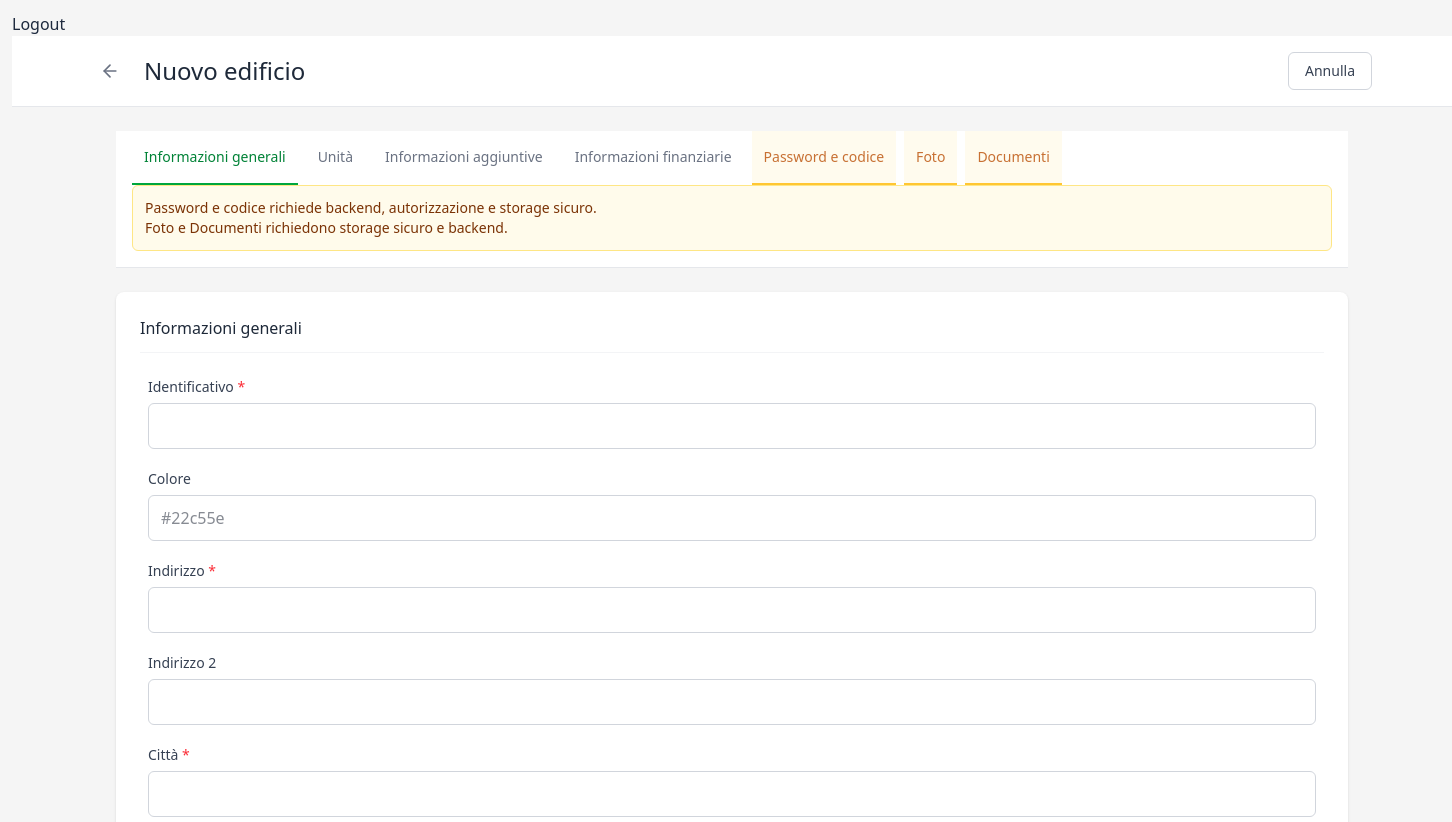
it: Nuovo edificio draft, guard e recovery › non autosalva digitando o cambiando tab e salva manualmente payload incompleto
This screenshot has width=1452, height=822.
Type "Solo identificativo" into the field with id "identifier".
click(732, 426); type("Solo identificativo")  # box [148, 403, 1316, 449]
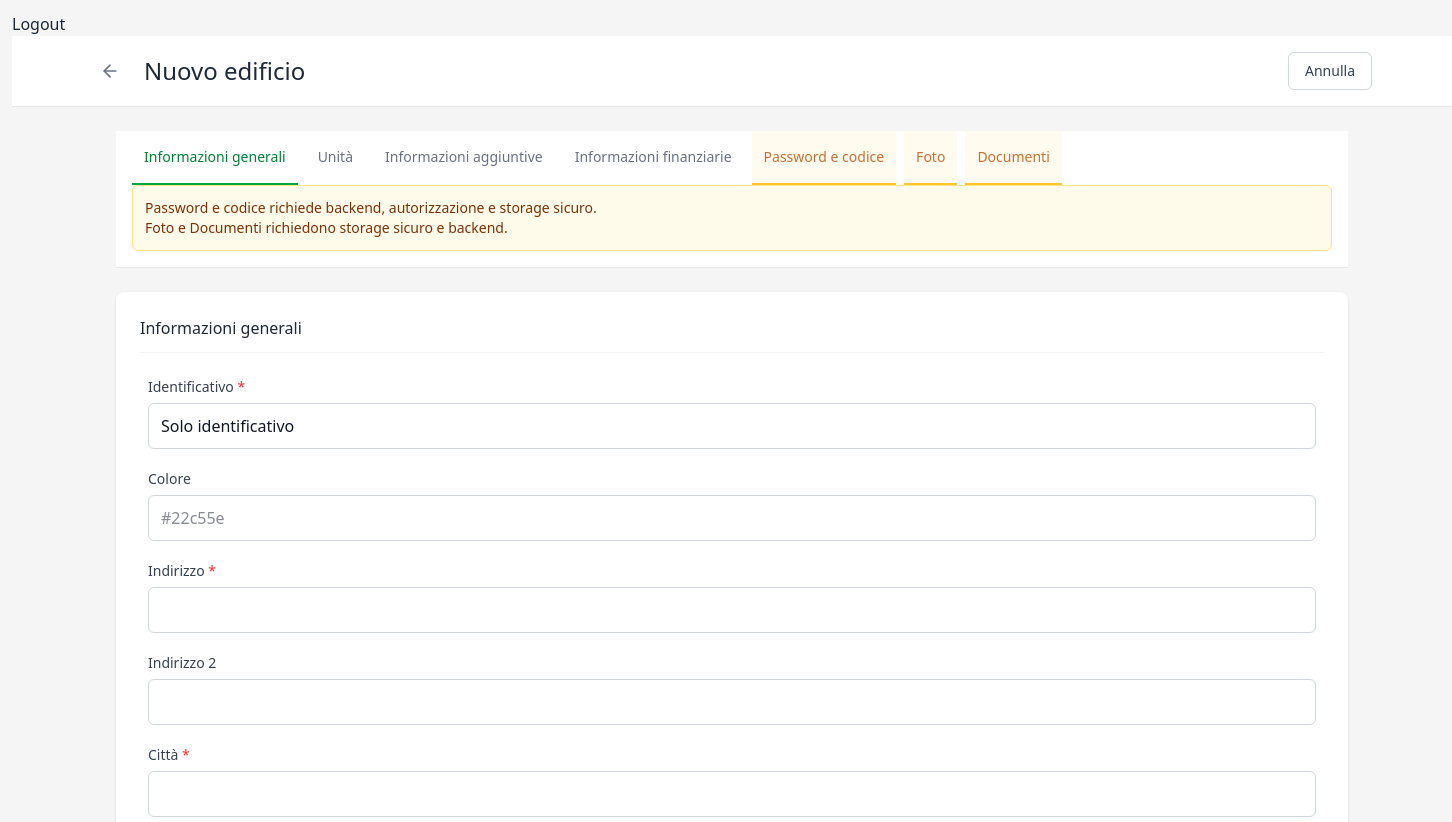
Click the tab "Unità".
click(335, 158)  # box [306, 131, 365, 185]
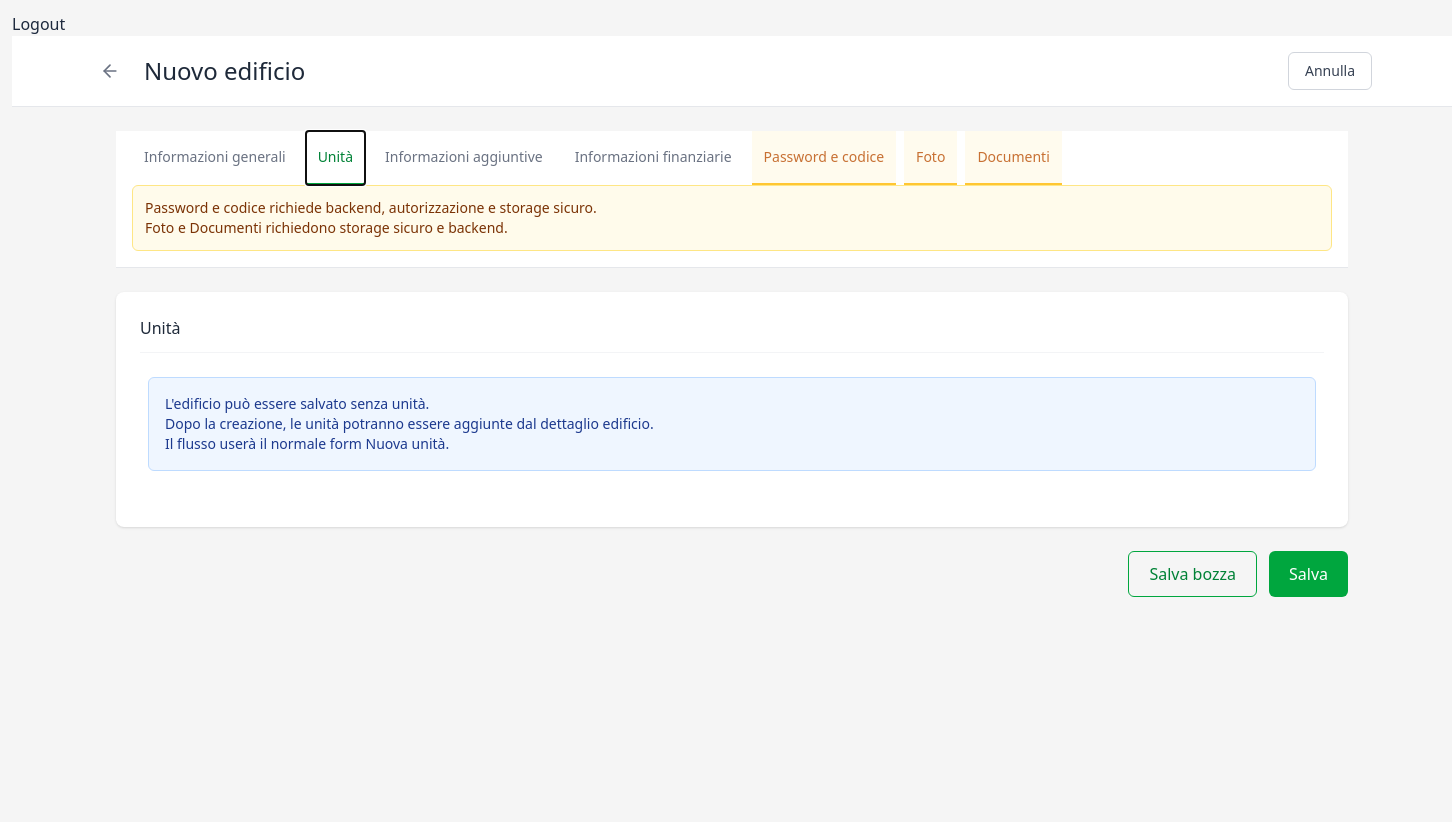
Click the button "Salva bozza".
click(1193, 574)  # box [1128, 551, 1257, 597]
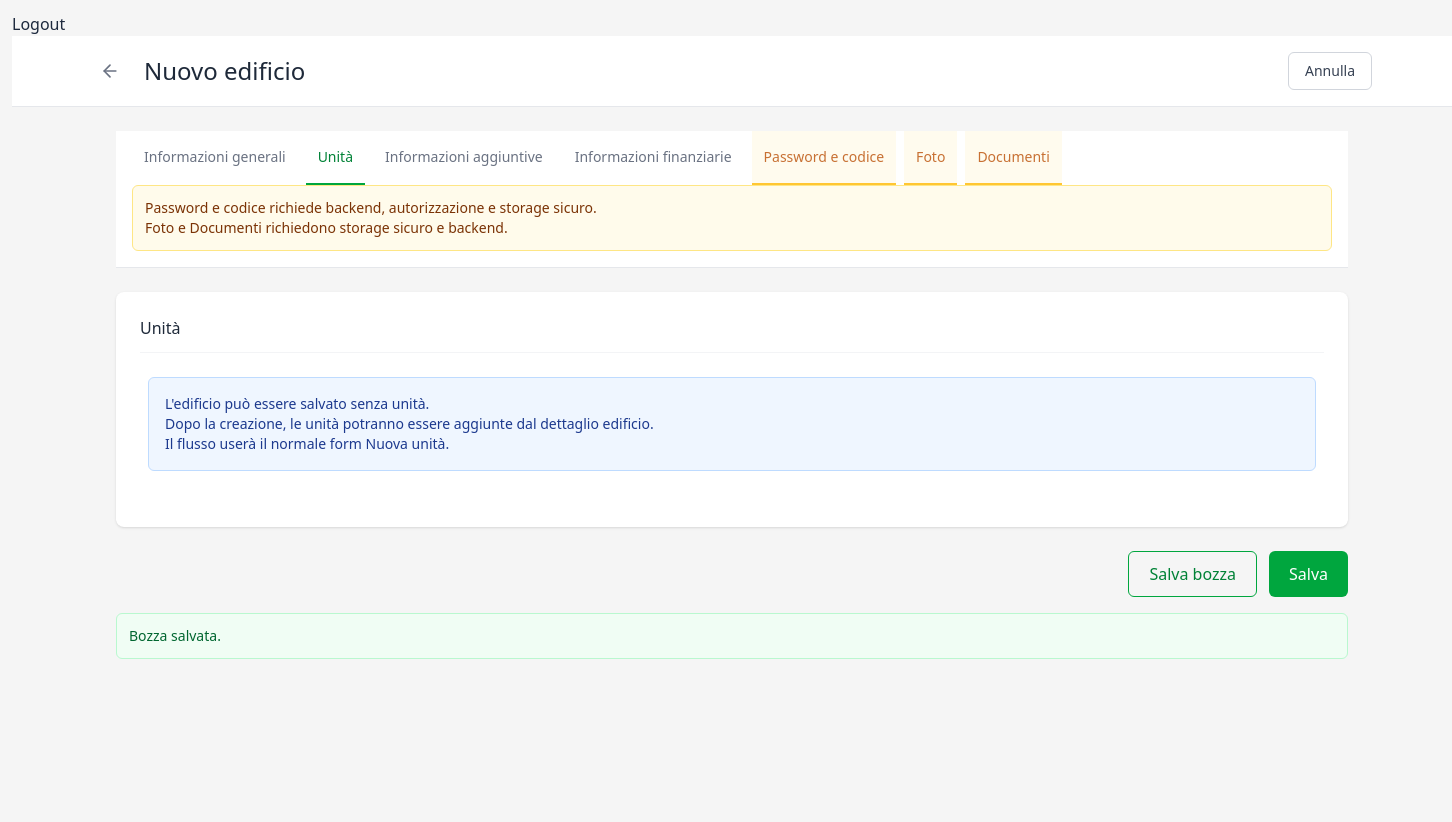
Now the text "Bozza salvata." is shown, box [116, 613, 1348, 659]
